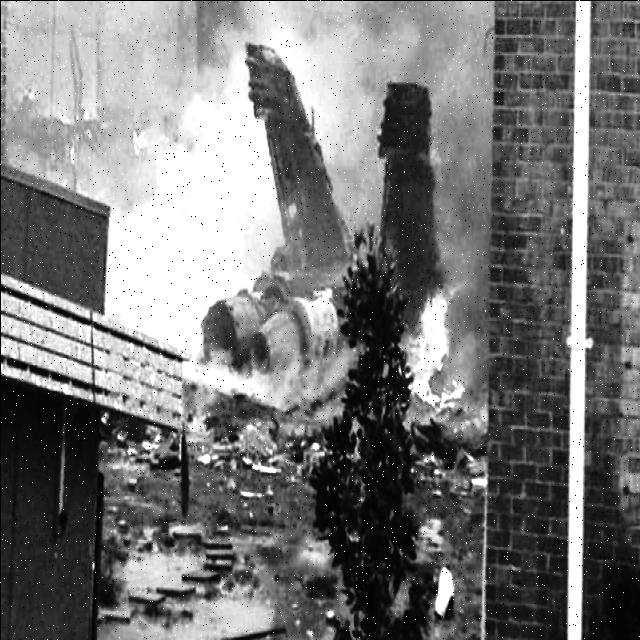api: (397, 268, 475, 411), (413, 513, 446, 550), (56, 104, 98, 130), (132, 121, 147, 159), (66, 138, 78, 166)
asap: (98, 1, 494, 345), (260, 344, 360, 426), (185, 341, 261, 415)
